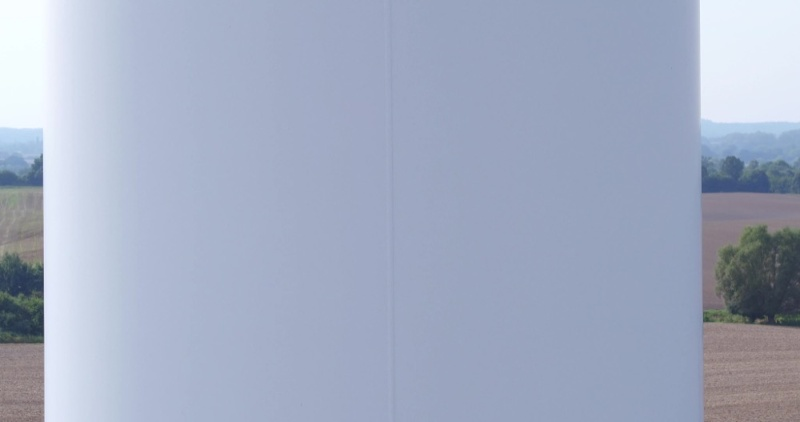weldseam: (380, 1, 402, 422)
